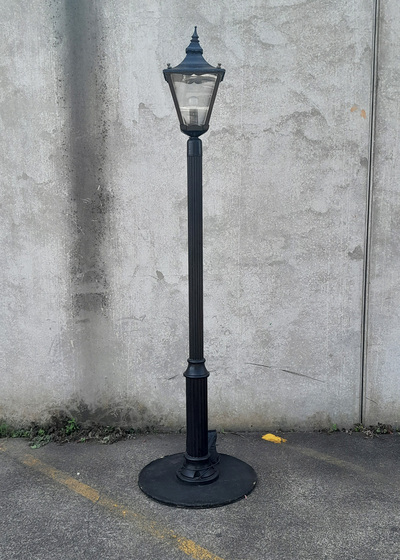Lamp: (129, 25, 274, 508)
